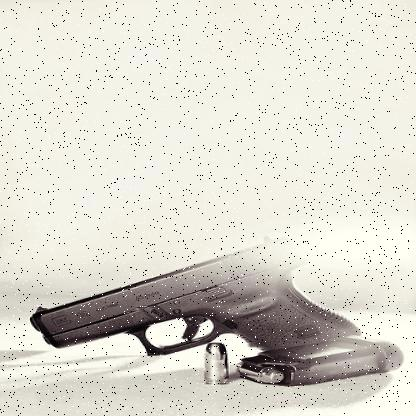pistol: (12, 235, 362, 356)
